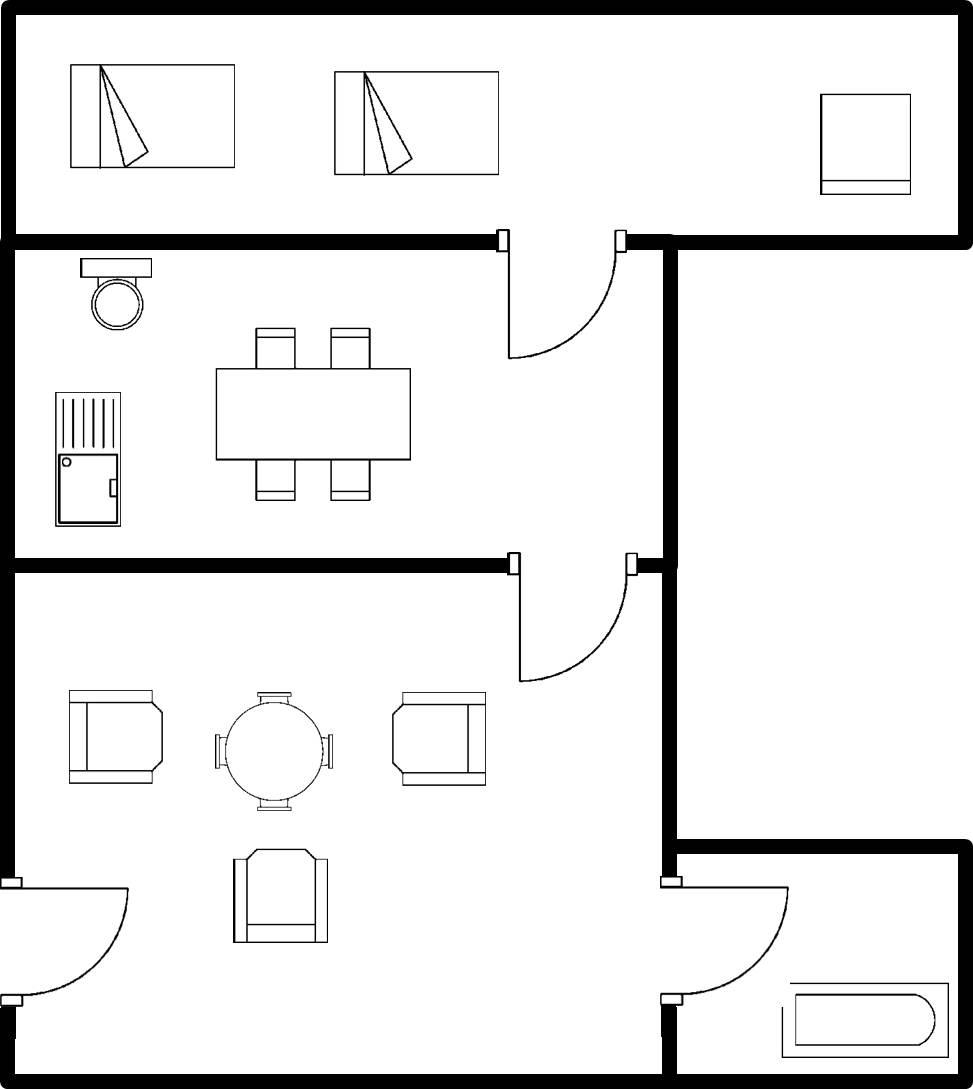bed: (61, 55, 240, 176), (327, 62, 505, 182)
dining_table: (207, 313, 418, 508)
round_table: (203, 682, 344, 817)
sink: (49, 384, 126, 532)
toilet: (71, 249, 159, 338)
tub: (774, 974, 952, 1067)
